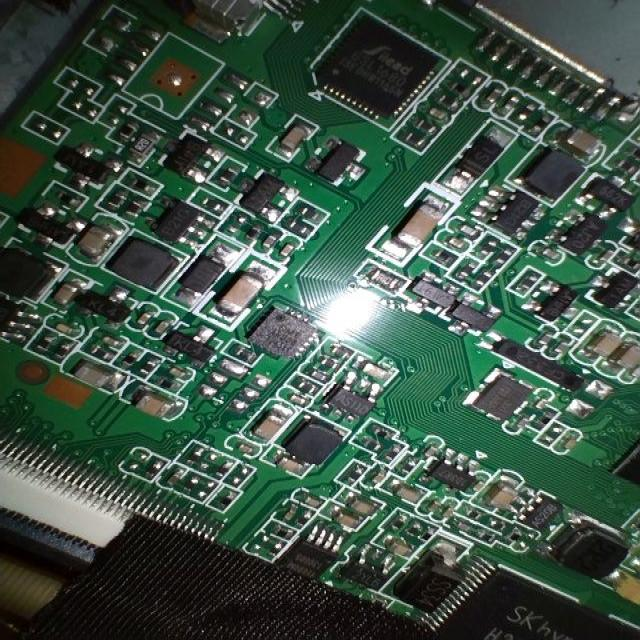capacitor: (222, 260, 260, 324), (251, 400, 290, 449), (405, 198, 439, 250), (610, 336, 640, 388), (126, 394, 170, 426), (85, 217, 112, 268), (591, 324, 617, 369), (70, 362, 113, 385), (489, 488, 520, 519), (267, 460, 316, 479), (54, 280, 80, 313)
resistor: (222, 159, 242, 202), (111, 115, 137, 144)
